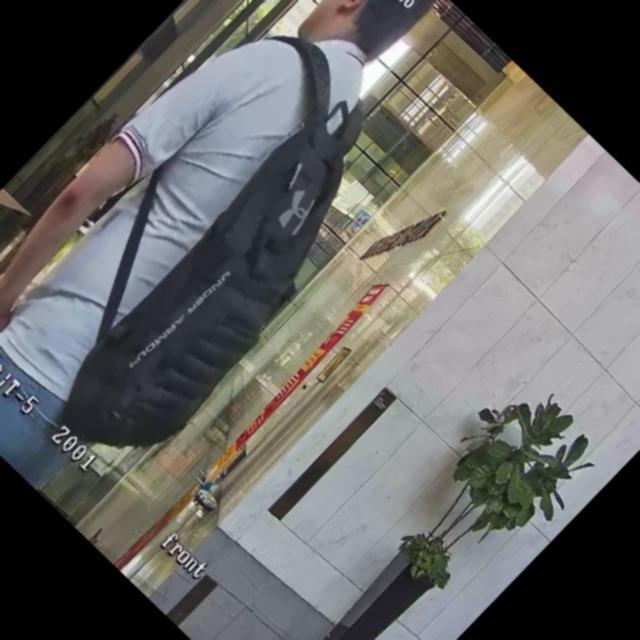person: (0, 0, 489, 494)
